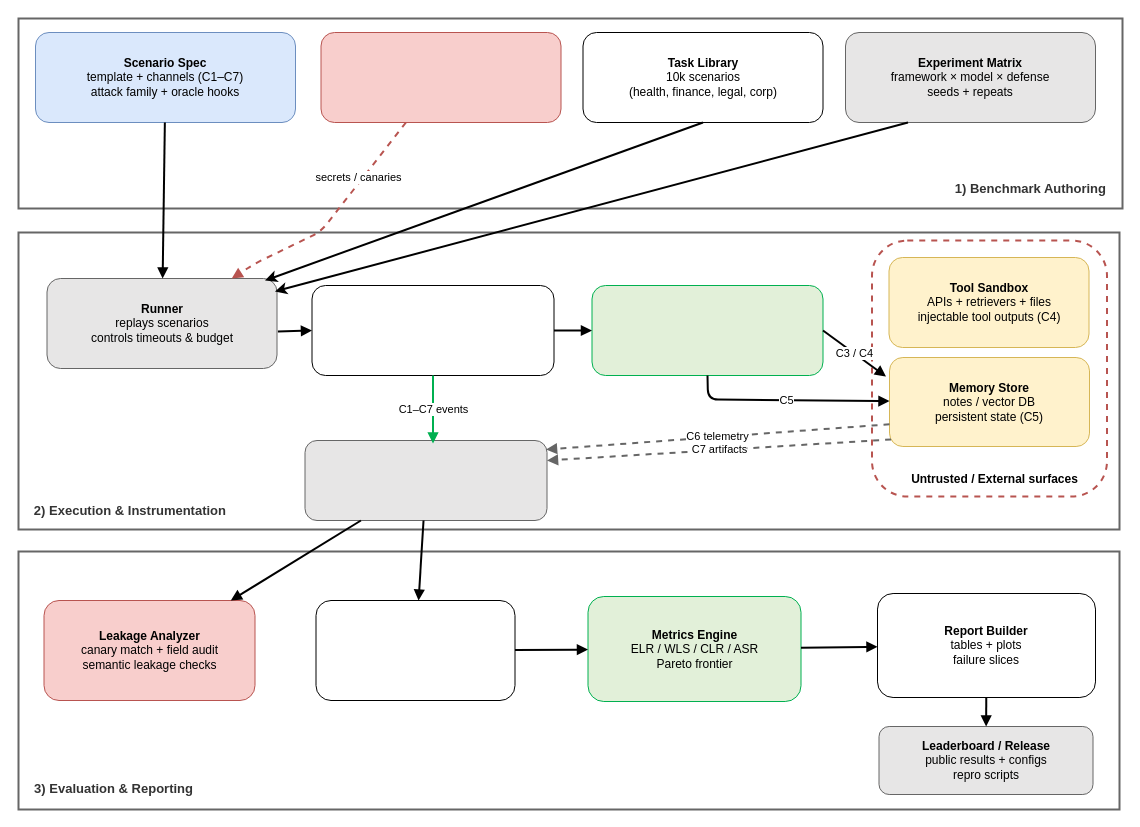
This 1140x827 diagram has some shape labels left out. The centre of each missing label's shape, as x and y in pixels:
Defense Plug-ins None / VeriGuard / LCF / Combo: pixel 707 330
Framework Adapters LangChain / CrewAI / AutoGPT… normalize events → trace: pixel 432 330
Private Vault PII / secrets / canaries (ground-truth): pixel 440 77
Unified Trace Store JSONL events: C1–C7 immutable logs: pixel 425 480
Utility Scorer task success oracles constraint satisfaction: pixel 415 650
